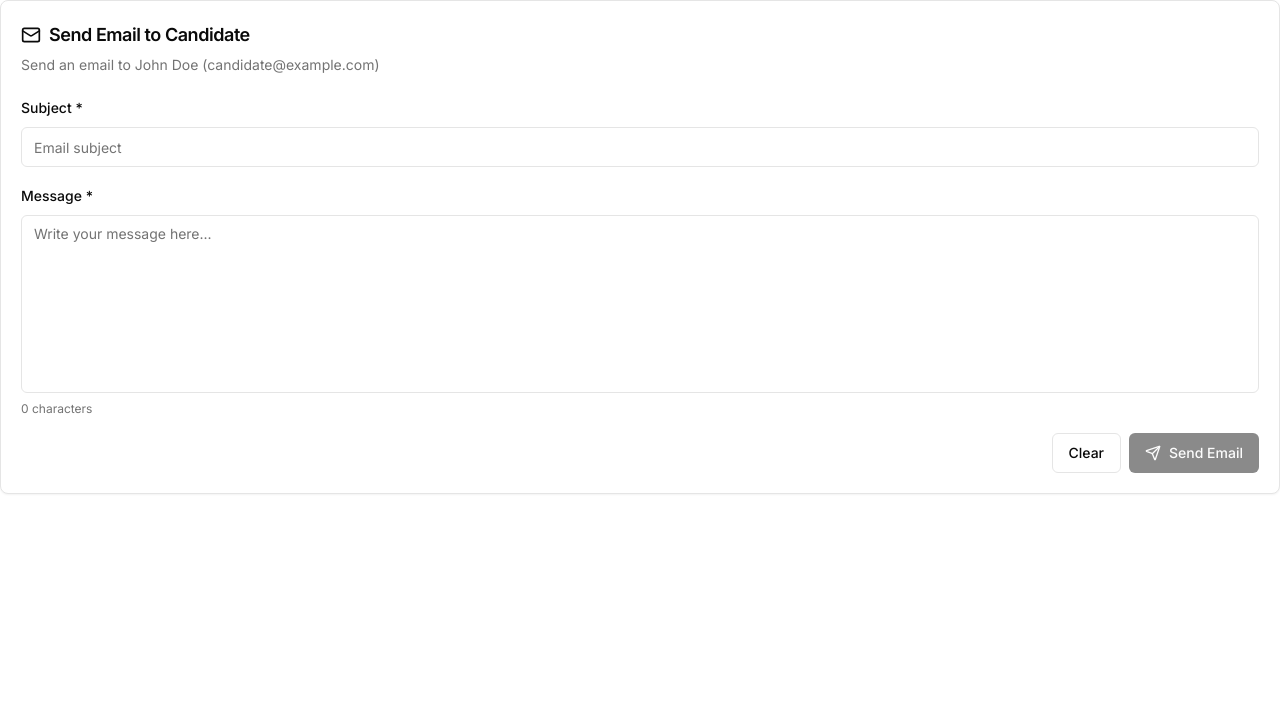
CandidateCommunicationForm › enables submit button when both fields have content
The image size is (1280, 720).
Type "Test Subject" into the field labelled "Subject *".
click(640, 147); type("Test Subject")  # box [21,127,1259,167]
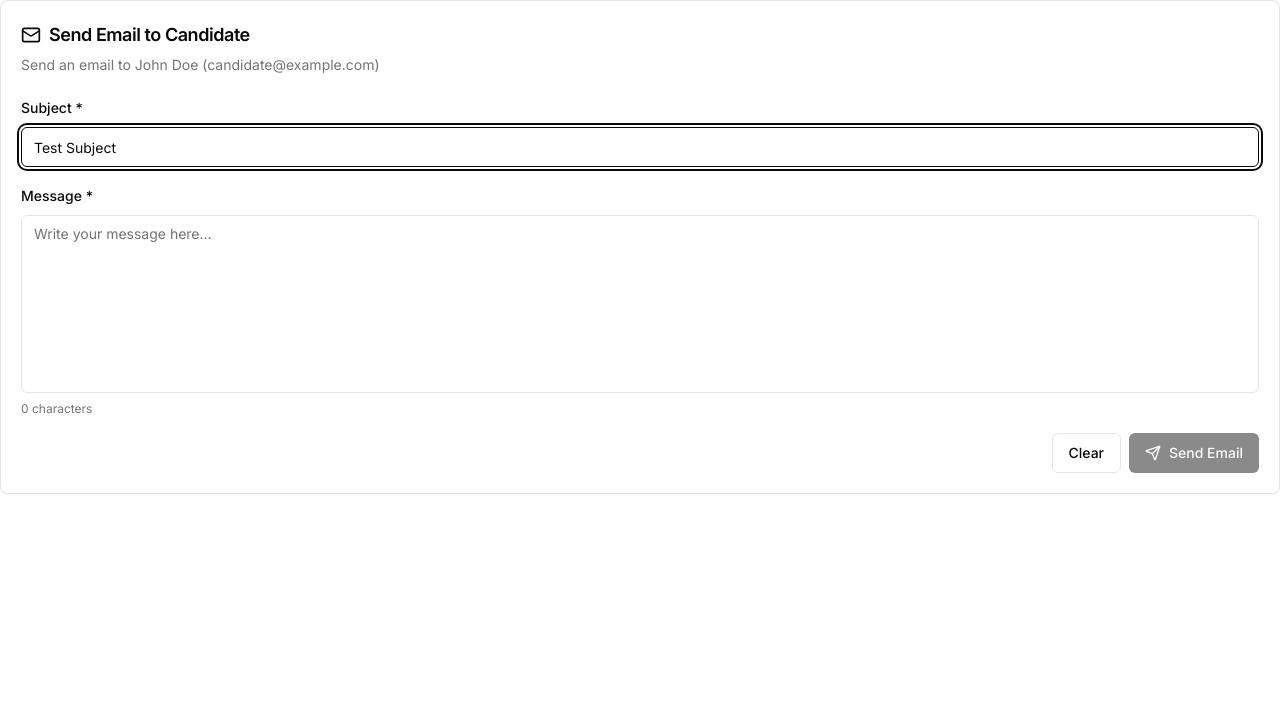
Type "Test message" into the text box labelled "Message *".
click(640, 304); type("Test message")  # box [21,215,1259,393]
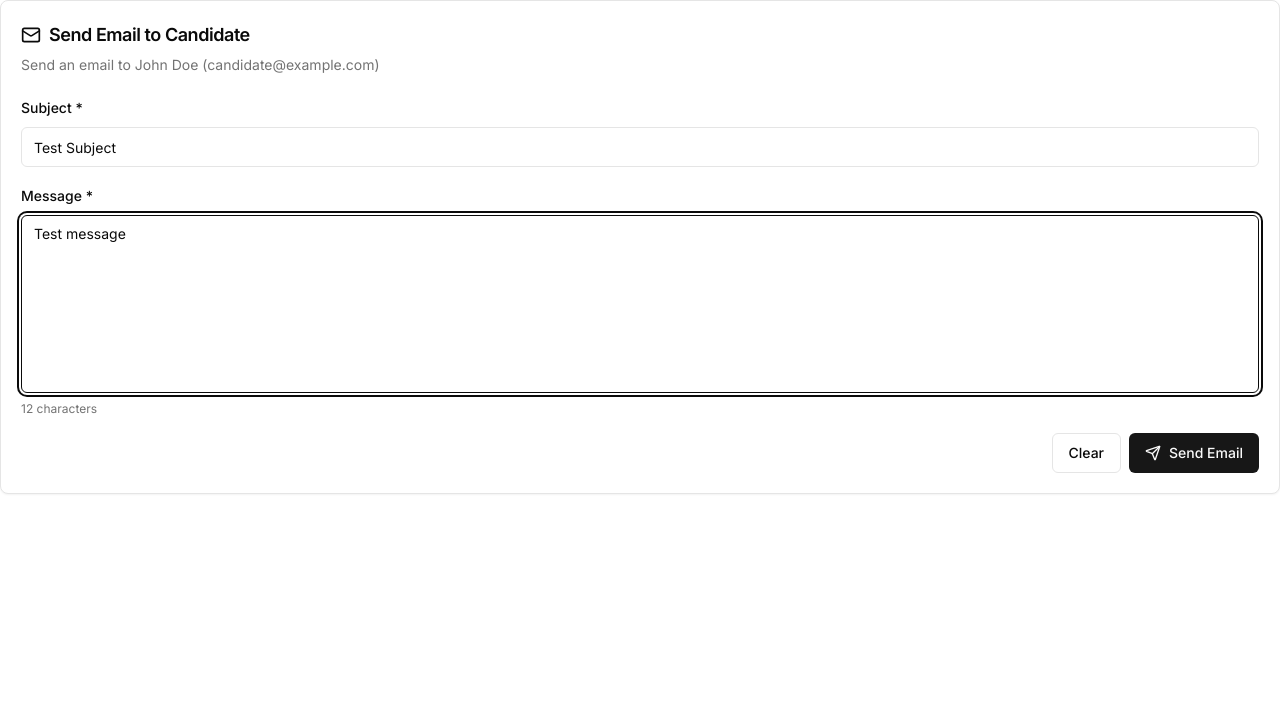
Now the button "Send Email" is enabled, box [1129,433,1259,473]
